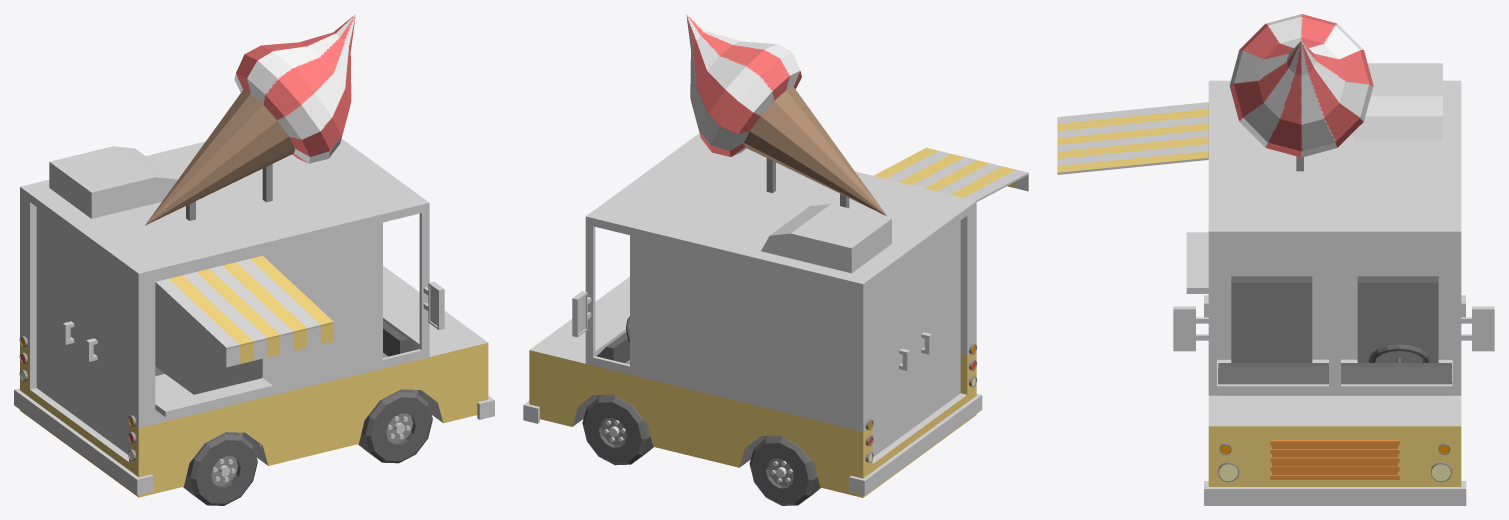
The model's file is ice-cream-truck.glb.
3 renders of one model, left to right at view 1: azimuth 30°, elevation 25°; view 2: azimuth 150°, elevation 25°; view 3: azimuth 270°, elevation 25°, orthographic. The views are drawn at different scales.
Parts seen in each view (by area): view 1: Ice Cream Truck; view 2: Ice Cream Truck; view 3: Ice Cream Truck.
Part boxes in pixels (x1,y1,x2,y2): Ice Cream Truck: (14,14,494,505); Ice Cream Truck: (523,14,1028,505); Ice Cream Truck: (1057,14,1494,505).
Size of the model in its own units: 2.51 by 2.81 by 2.49.
Materials: 1 (1 with a texture image).
